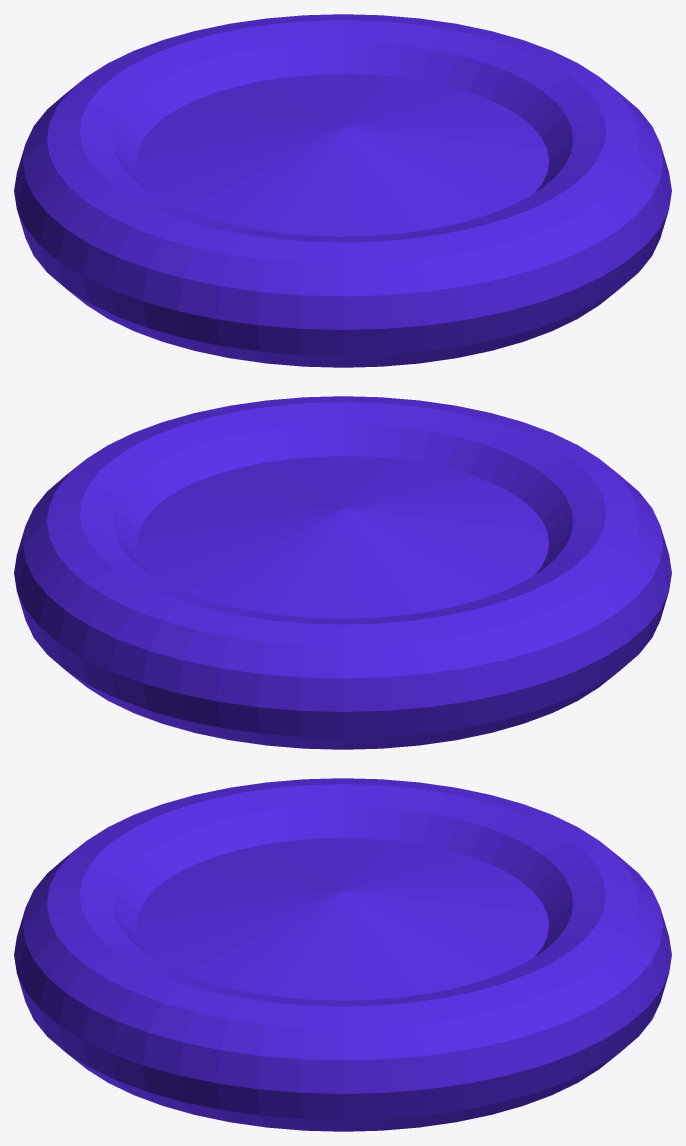
Rendered from Arena 2.fbx.
3 renders of one model, top to bottom at view 1: azimuth 30°, elevation 25°; view 2: azimuth 150°, elevation 25°; view 3: azimuth 270°, elevation 25°, orthographic.
Parts seen in each view (by area): view 1: Arena; view 2: Arena; view 3: Arena.
Part boxes in pixels (x1,y1,x2,y2): Arena: [14, 14, 671, 367]; Arena: [14, 396, 671, 749]; Arena: [14, 778, 671, 1131].
Bounding box in the file's own units: 250 × 51.81 × 250.
